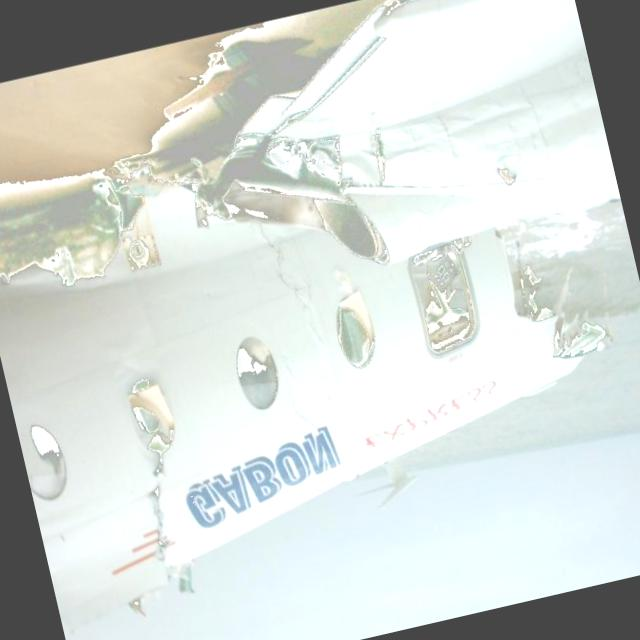crack: (254, 211, 321, 334), (130, 445, 188, 573), (282, 361, 324, 442), (363, 128, 393, 188)
